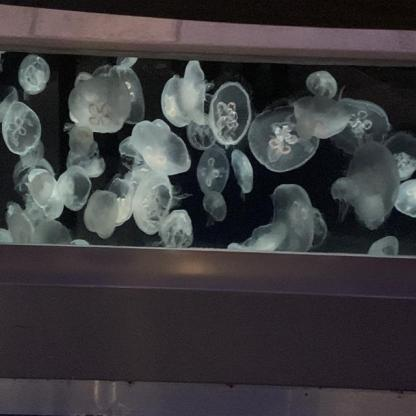jellyfish: (246, 100, 322, 177), (252, 175, 323, 257), (332, 142, 397, 225), (66, 66, 133, 136), (124, 113, 191, 180), (206, 78, 256, 150), (159, 60, 209, 130), (100, 58, 149, 126), (14, 153, 64, 219), (334, 92, 390, 150), (131, 166, 176, 229), (292, 90, 347, 140), (41, 165, 92, 215), (85, 186, 128, 240), (64, 125, 106, 179), (2, 97, 38, 154), (227, 223, 287, 257), (10, 131, 53, 176), (31, 209, 74, 253), (106, 174, 136, 233), (183, 107, 219, 152), (228, 150, 260, 200), (384, 129, 416, 177), (159, 207, 193, 251), (6, 200, 40, 244), (195, 146, 227, 192), (17, 56, 50, 95), (366, 226, 402, 259), (201, 190, 230, 226), (305, 70, 338, 100), (395, 174, 416, 219)
